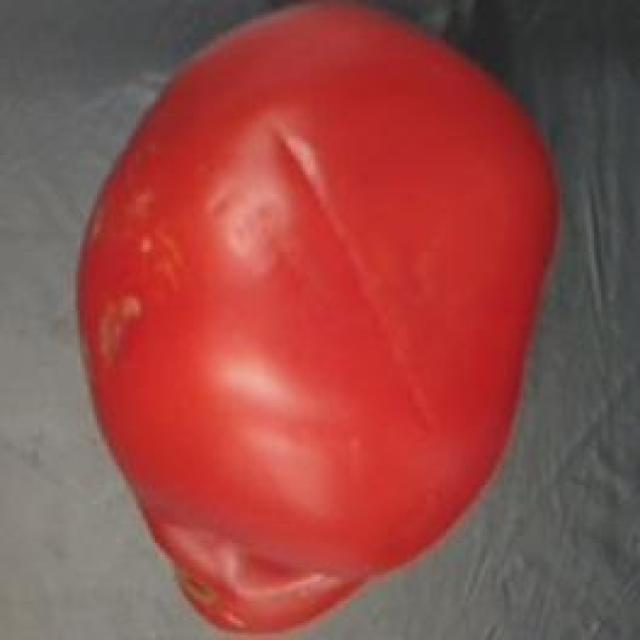overripe tomato: (65, 0, 582, 640)
